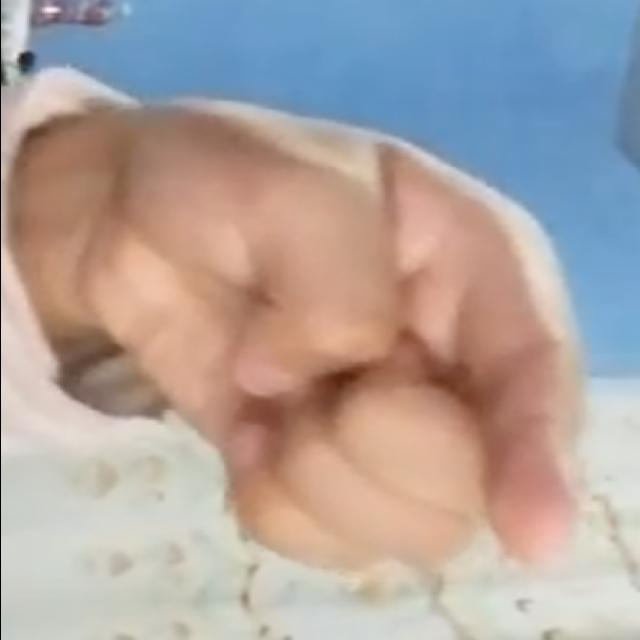Z: (84, 86, 602, 582)
